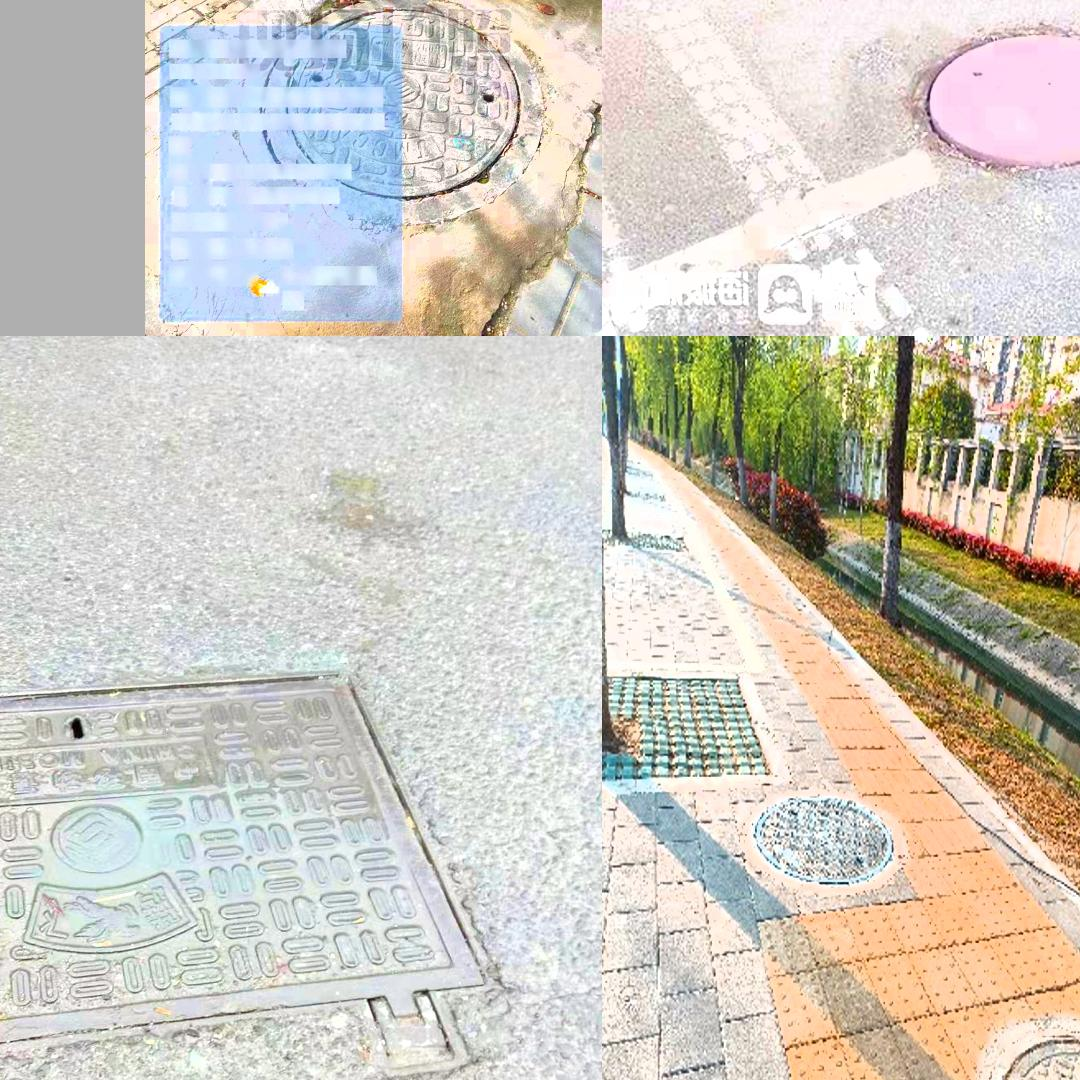good: (0, 664, 491, 1080), (262, 0, 544, 227), (886, 11, 1080, 185), (743, 787, 906, 890), (985, 1024, 1080, 1080)
